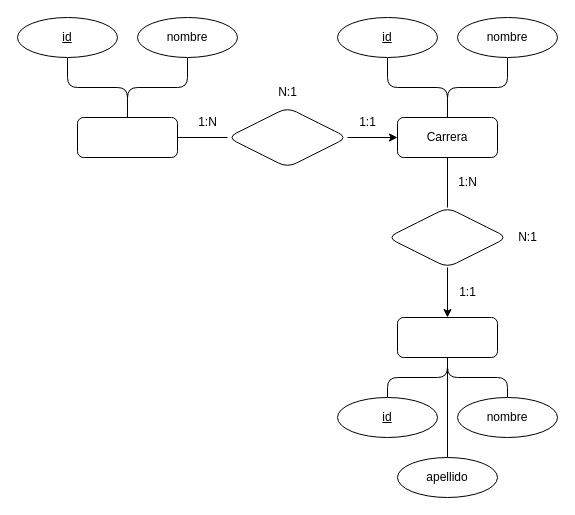
The diagram is 575 pixels wide and 515 high, and some of its shapes have lost their labels. The shapes that lost their labels are listed below. From the top down, each one's centre as x and y in pixels, then its label:
At (x=127, y=137): "Facultad".
At (x=287, y=137): "Pertenece".
At (x=447, y=237): "Estudia".
At (x=447, y=337): "Estudiante".
